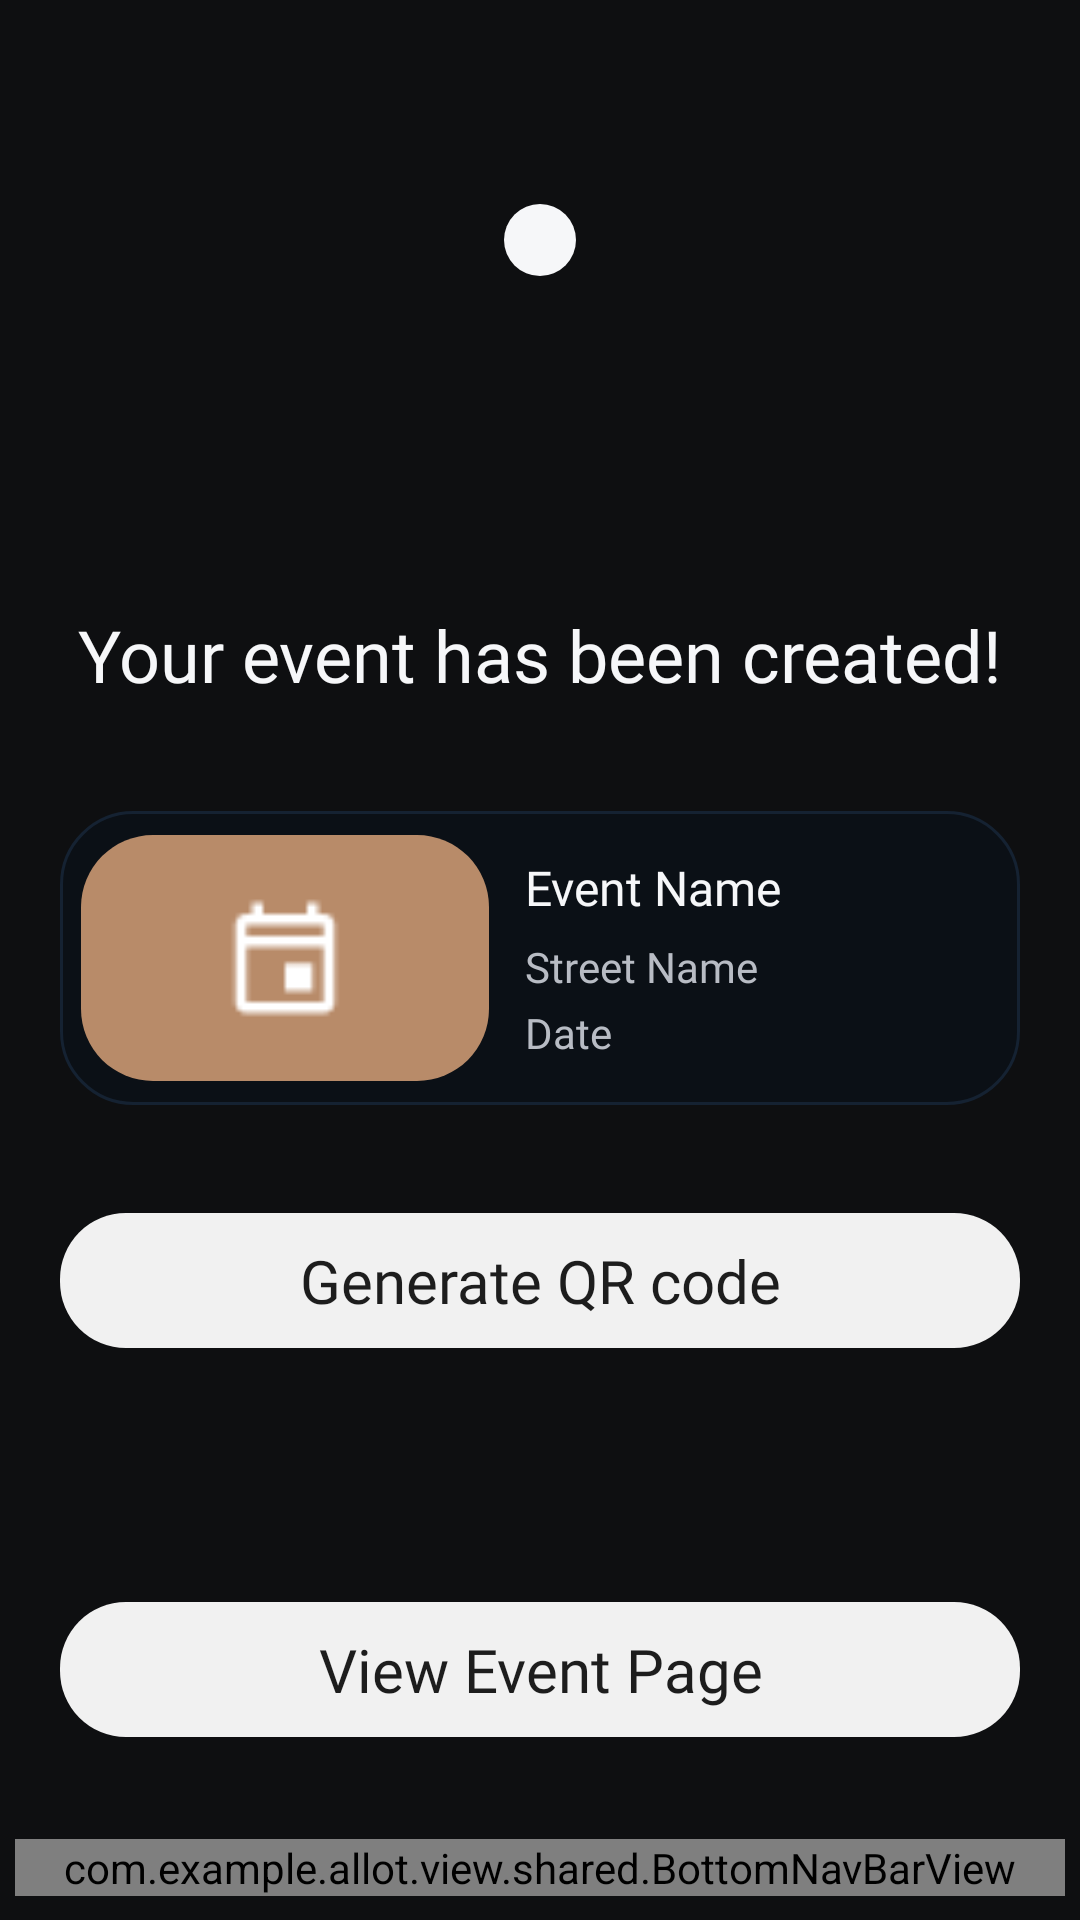

Named icons in this screenshot (1080px×1920px) and their bounding boxes, (x1, y1, x2, y2):
event: (233, 900, 337, 1016)
